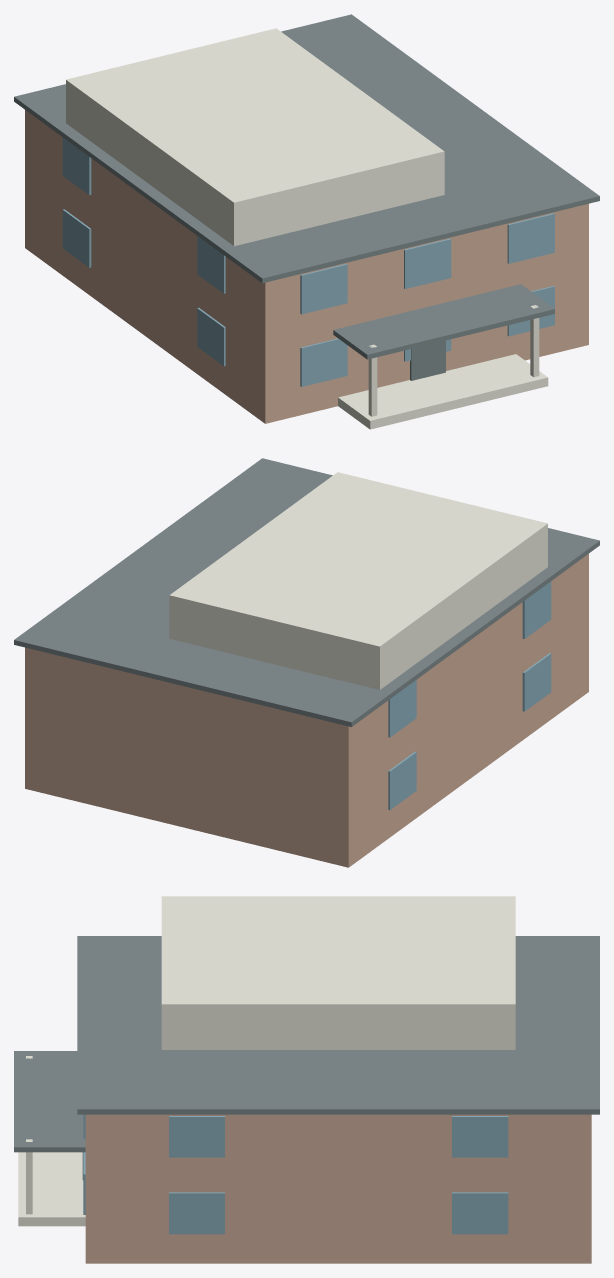
3 views of the same model, one above another, from view 1: azimuth 30°, elevation 25°; view 2: azimuth 150°, elevation 25°; view 3: azimuth 270°, elevation 25° (orthographic). The views are drawn at different scales.
Bounding box in the file's own units: 14.6 × 8 × 20.85.
